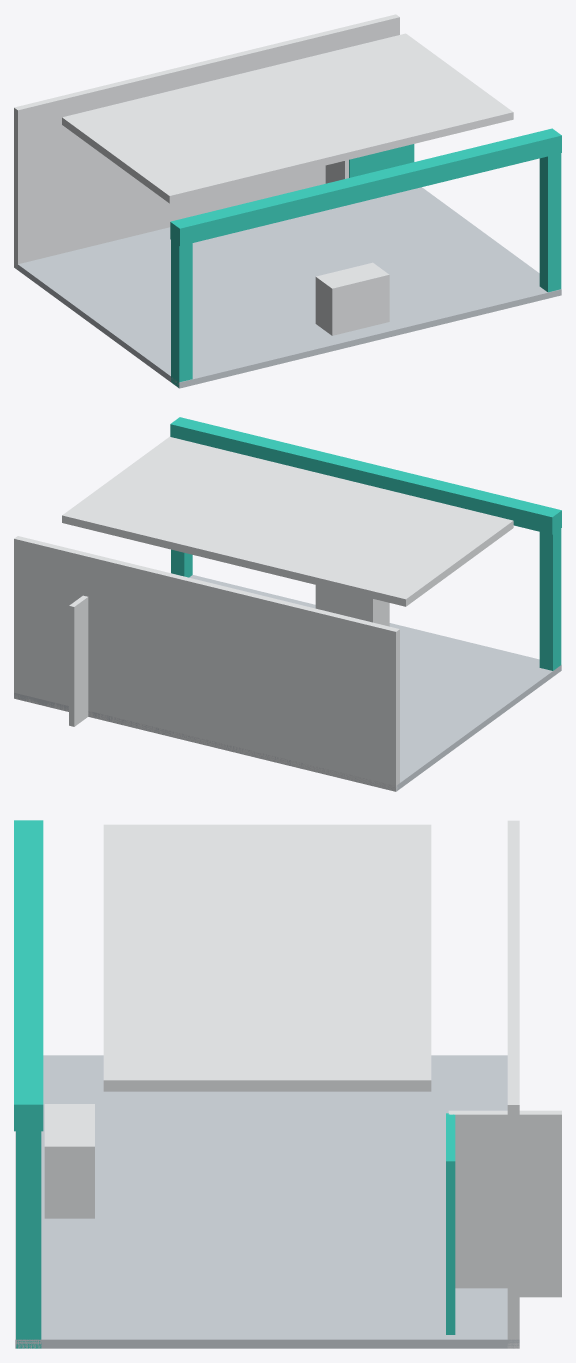
3 renders of one model, top to bottom at view 1: azimuth 30°, elevation 25°; view 2: azimuth 150°, elevation 25°; view 3: azimuth 270°, elevation 25°, orthographic. The views are drawn at different scales.
Visible parts, largest first — view 1: Exhibition Booth Concept; view 2: Exhibition Booth Concept; view 3: Exhibition Booth Concept.
Boxes of the visible parts, <box> form: Exhibition Booth Concept: <box>14,14,561,388</box>; Exhibition Booth Concept: <box>14,417,561,791</box>; Exhibition Booth Concept: <box>14,820,561,1348</box>.
Bounding box in the file's own units: 8 × 3.34 × 6.52.
